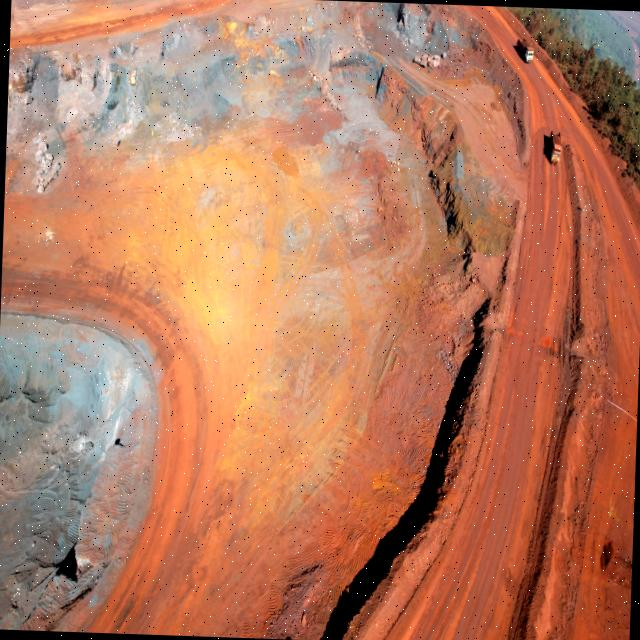Dumper truck: (548, 129, 562, 163), (519, 38, 534, 61)
person: (582, 204, 586, 212)
